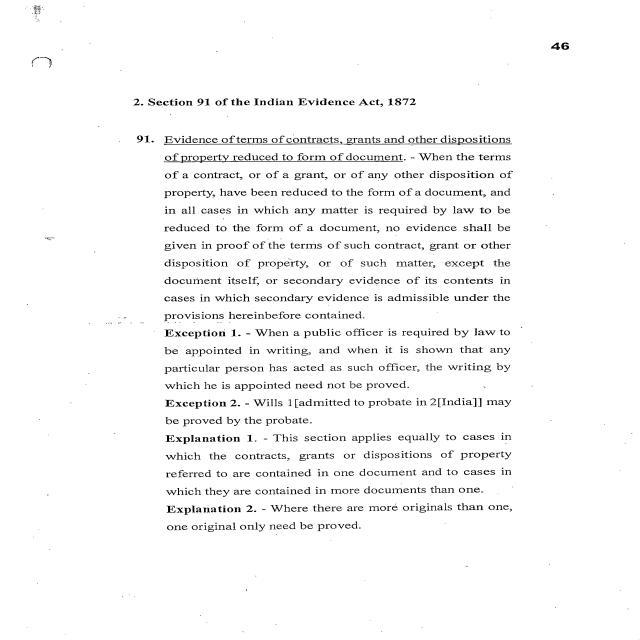page-number: (454, 0, 638, 111)
